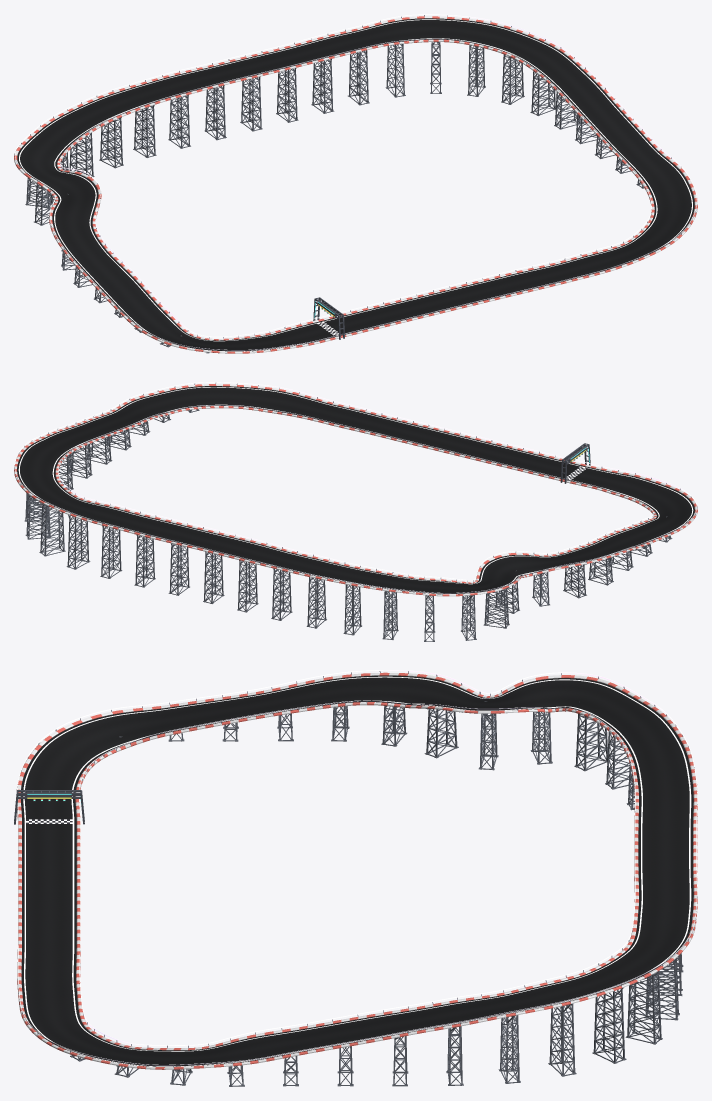
The model's file is race_track.glb.
3 renders of one model, top to bottom at view 1: azimuth 30°, elevation 25°; view 2: azimuth 150°, elevation 25°; view 3: azimuth 270°, elevation 25°, orthographic. The views are drawn at different scales.
Visible parts, largest first — view 1: Track_Road, Track_SupportTrusses, Track_Curbs_White, Track_Curbs_Red, Track_Guardrails, Track_StartLine; view 2: Track_Road, Track_SupportTrusses, Track_Curbs_White, Track_Curbs_Red, Track_Guardrails, Track_StartLine; view 3: Track_Road, Track_SupportTrusses, Track_Curbs_White, Track_Curbs_Red, Track_Guardrails, Track_StartLine.
Part boxes in pixels (left/top/right/bottom): Track_Road: left=17, top=18, right=694, bottom=353; Track_SupportTrusses: left=25, top=42, right=643, bottom=353; Track_Curbs_White: left=14, top=16, right=697, bottom=353; Track_Curbs_Red: left=14, top=16, right=697, bottom=353; Track_Guardrails: left=14, top=14, right=697, bottom=351; Track_StartLine: left=313, top=297, right=344, bottom=339; Track_Road: left=17, top=386, right=694, bottom=594; Track_SupportTrusses: left=24, top=409, right=672, bottom=641; Track_Curbs_White: left=14, top=384, right=697, bottom=596; Track_Curbs_Red: left=14, top=384, right=697, bottom=596; Track_Guardrails: left=14, top=382, right=697, bottom=595; Track_StartLine: left=560, top=443, right=590, bottom=483; Track_Road: left=20, top=675, right=693, bottom=1066; Track_SupportTrusses: left=70, top=701, right=683, bottom=1086; Track_Curbs_White: left=16, top=673, right=697, bottom=1069; Track_Curbs_Red: left=16, top=672, right=697, bottom=1069; Track_Guardrails: left=17, top=670, right=697, bottom=1067; Track_StartLine: left=14, top=790, right=84, bottom=824.
Size of the model in its own units: 177 by 20.21 by 138.
Materials: 17 (1 with a texture image).
